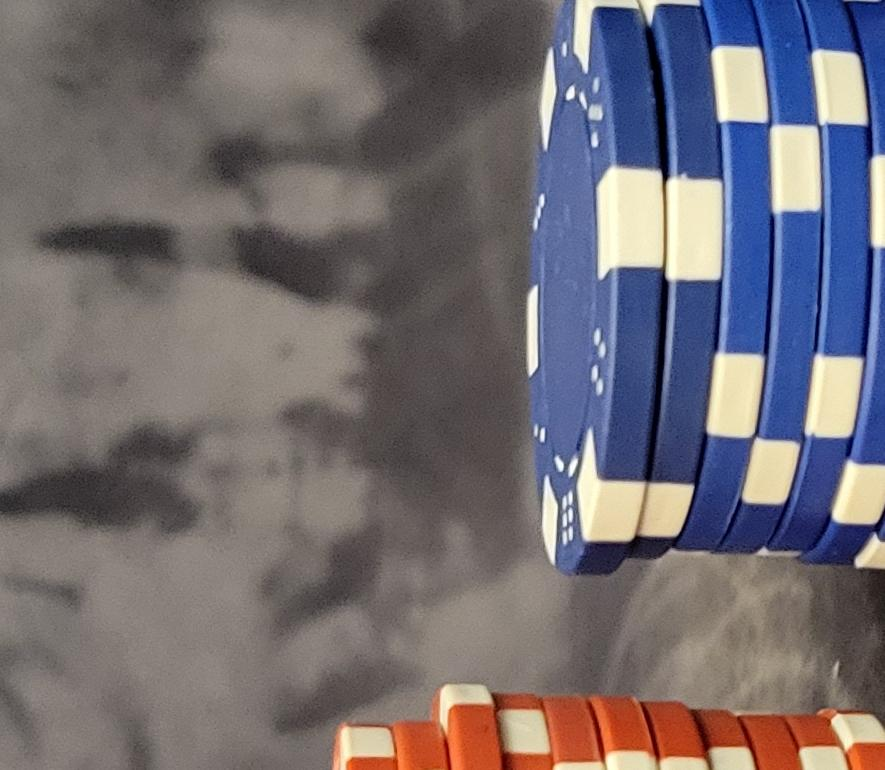Chip: (1, 304, 404, 770)
